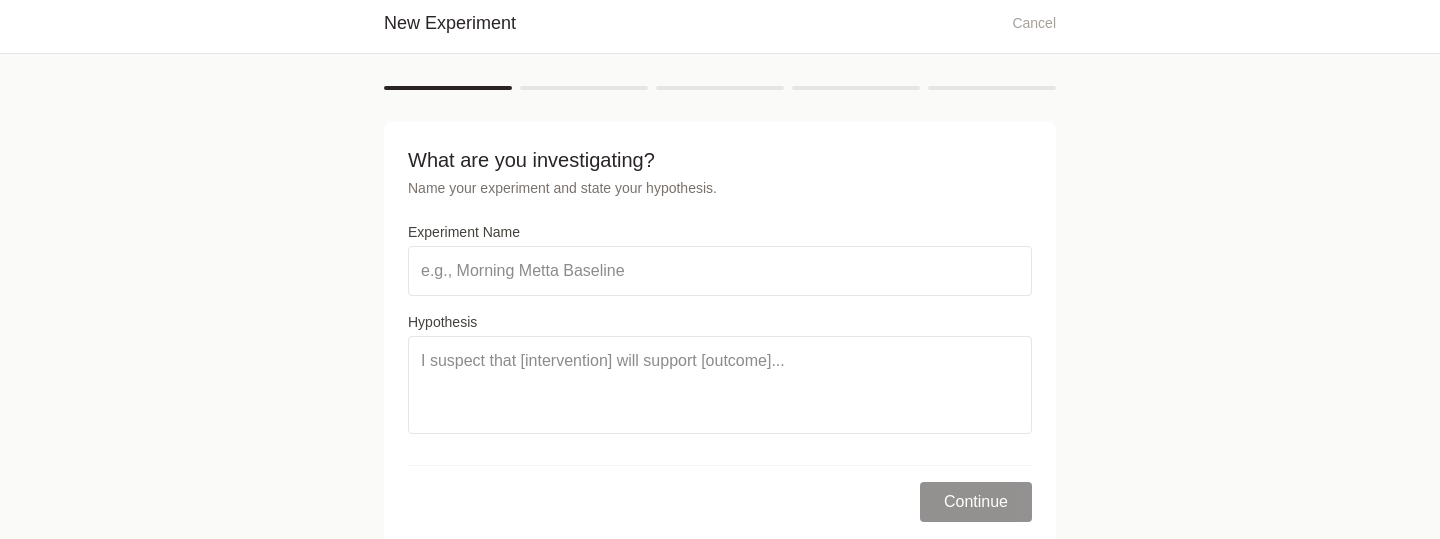
CreateExperiment › Step Navigation › navigates back to previous step
Go to step 2
Type "Test" into the field with placeholder "e.g., Morning Metta Baseline" at (720, 271), box [408,246,1032,296]
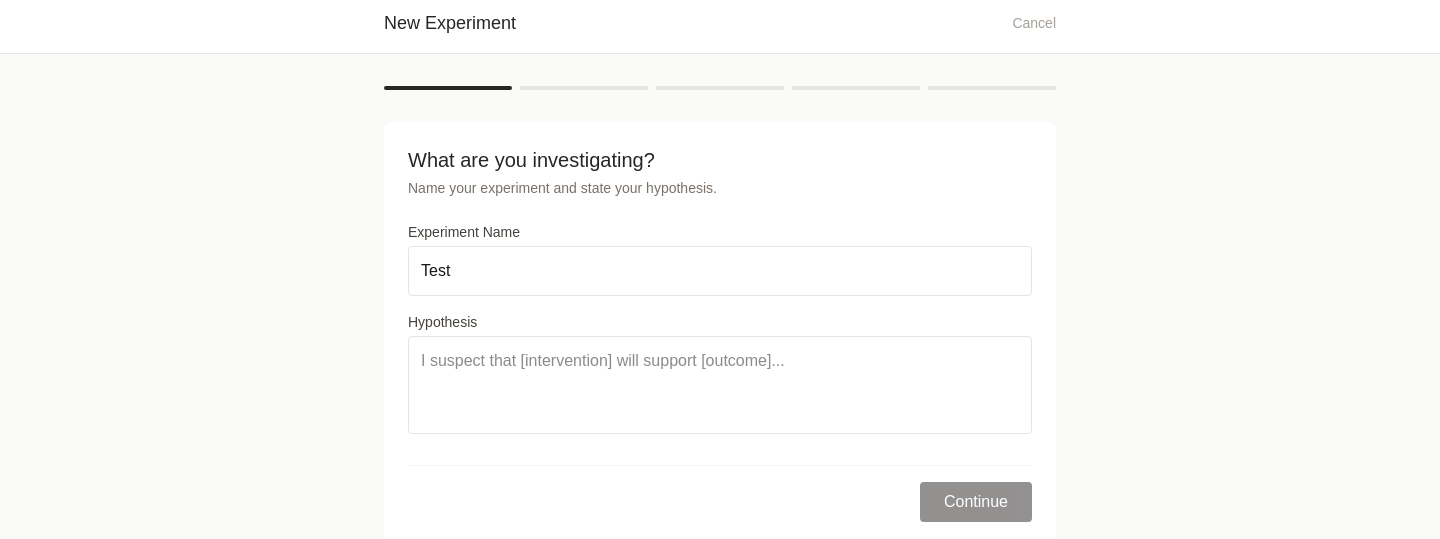
Type "Hypothesis" into the text box with placeholder "I suspect that [intervention] will support [outcome]..." at (720, 385), box [408,336,1032,434]
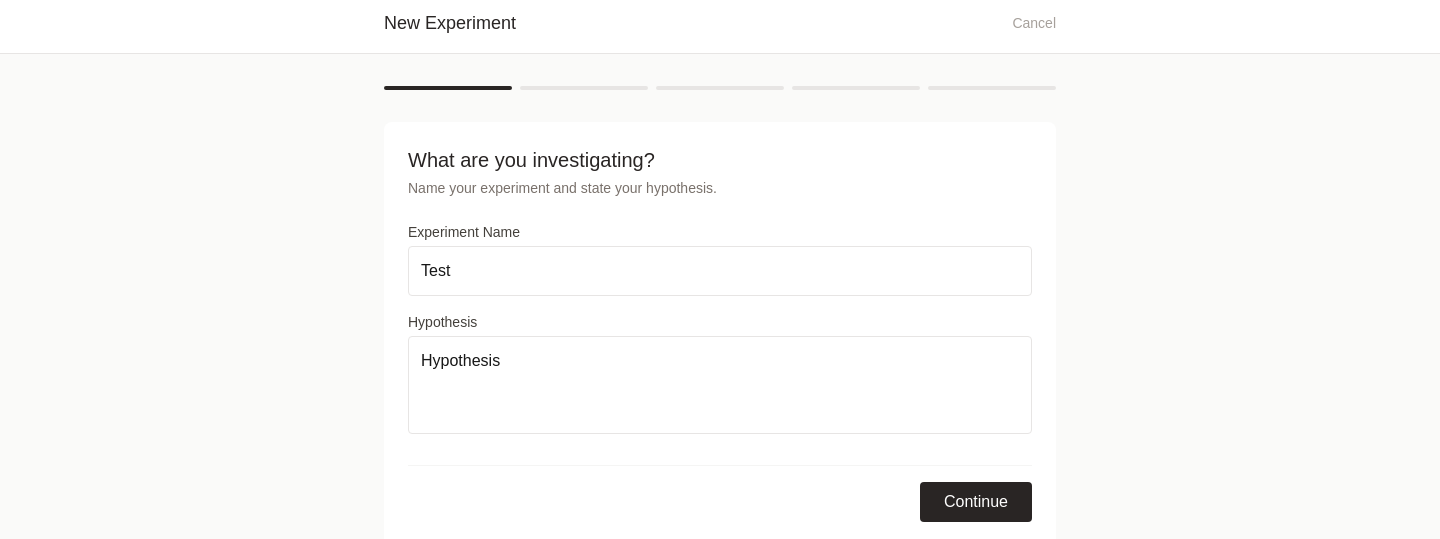
Click the button "Continue" at (976, 502), box [920,482,1032,522]
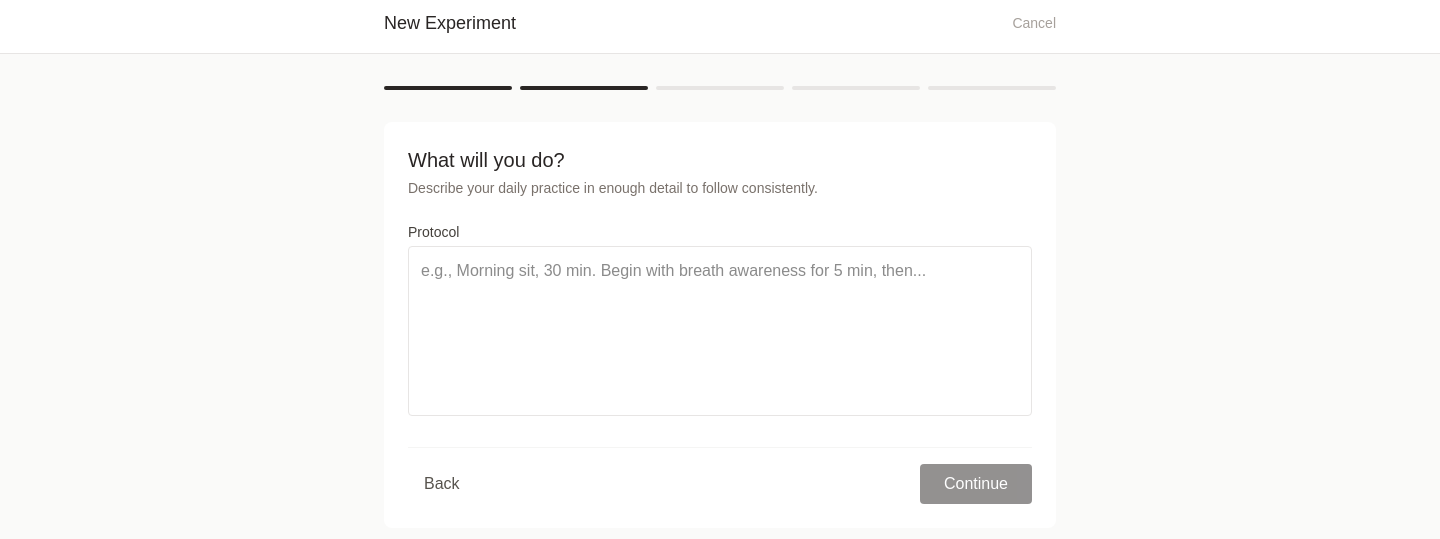
 Go back
Click the button "Back" at (442, 484), box [408,464,476,504]
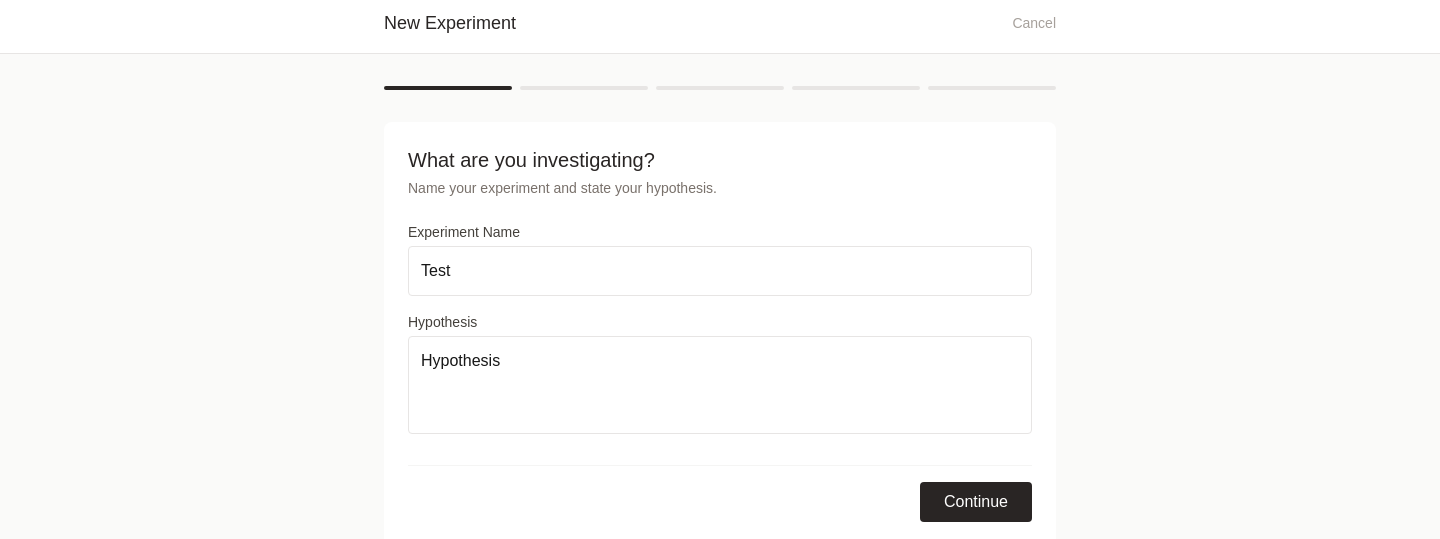
Result: the heading "What are you investigating?" is shown at [408,149,655,171]
